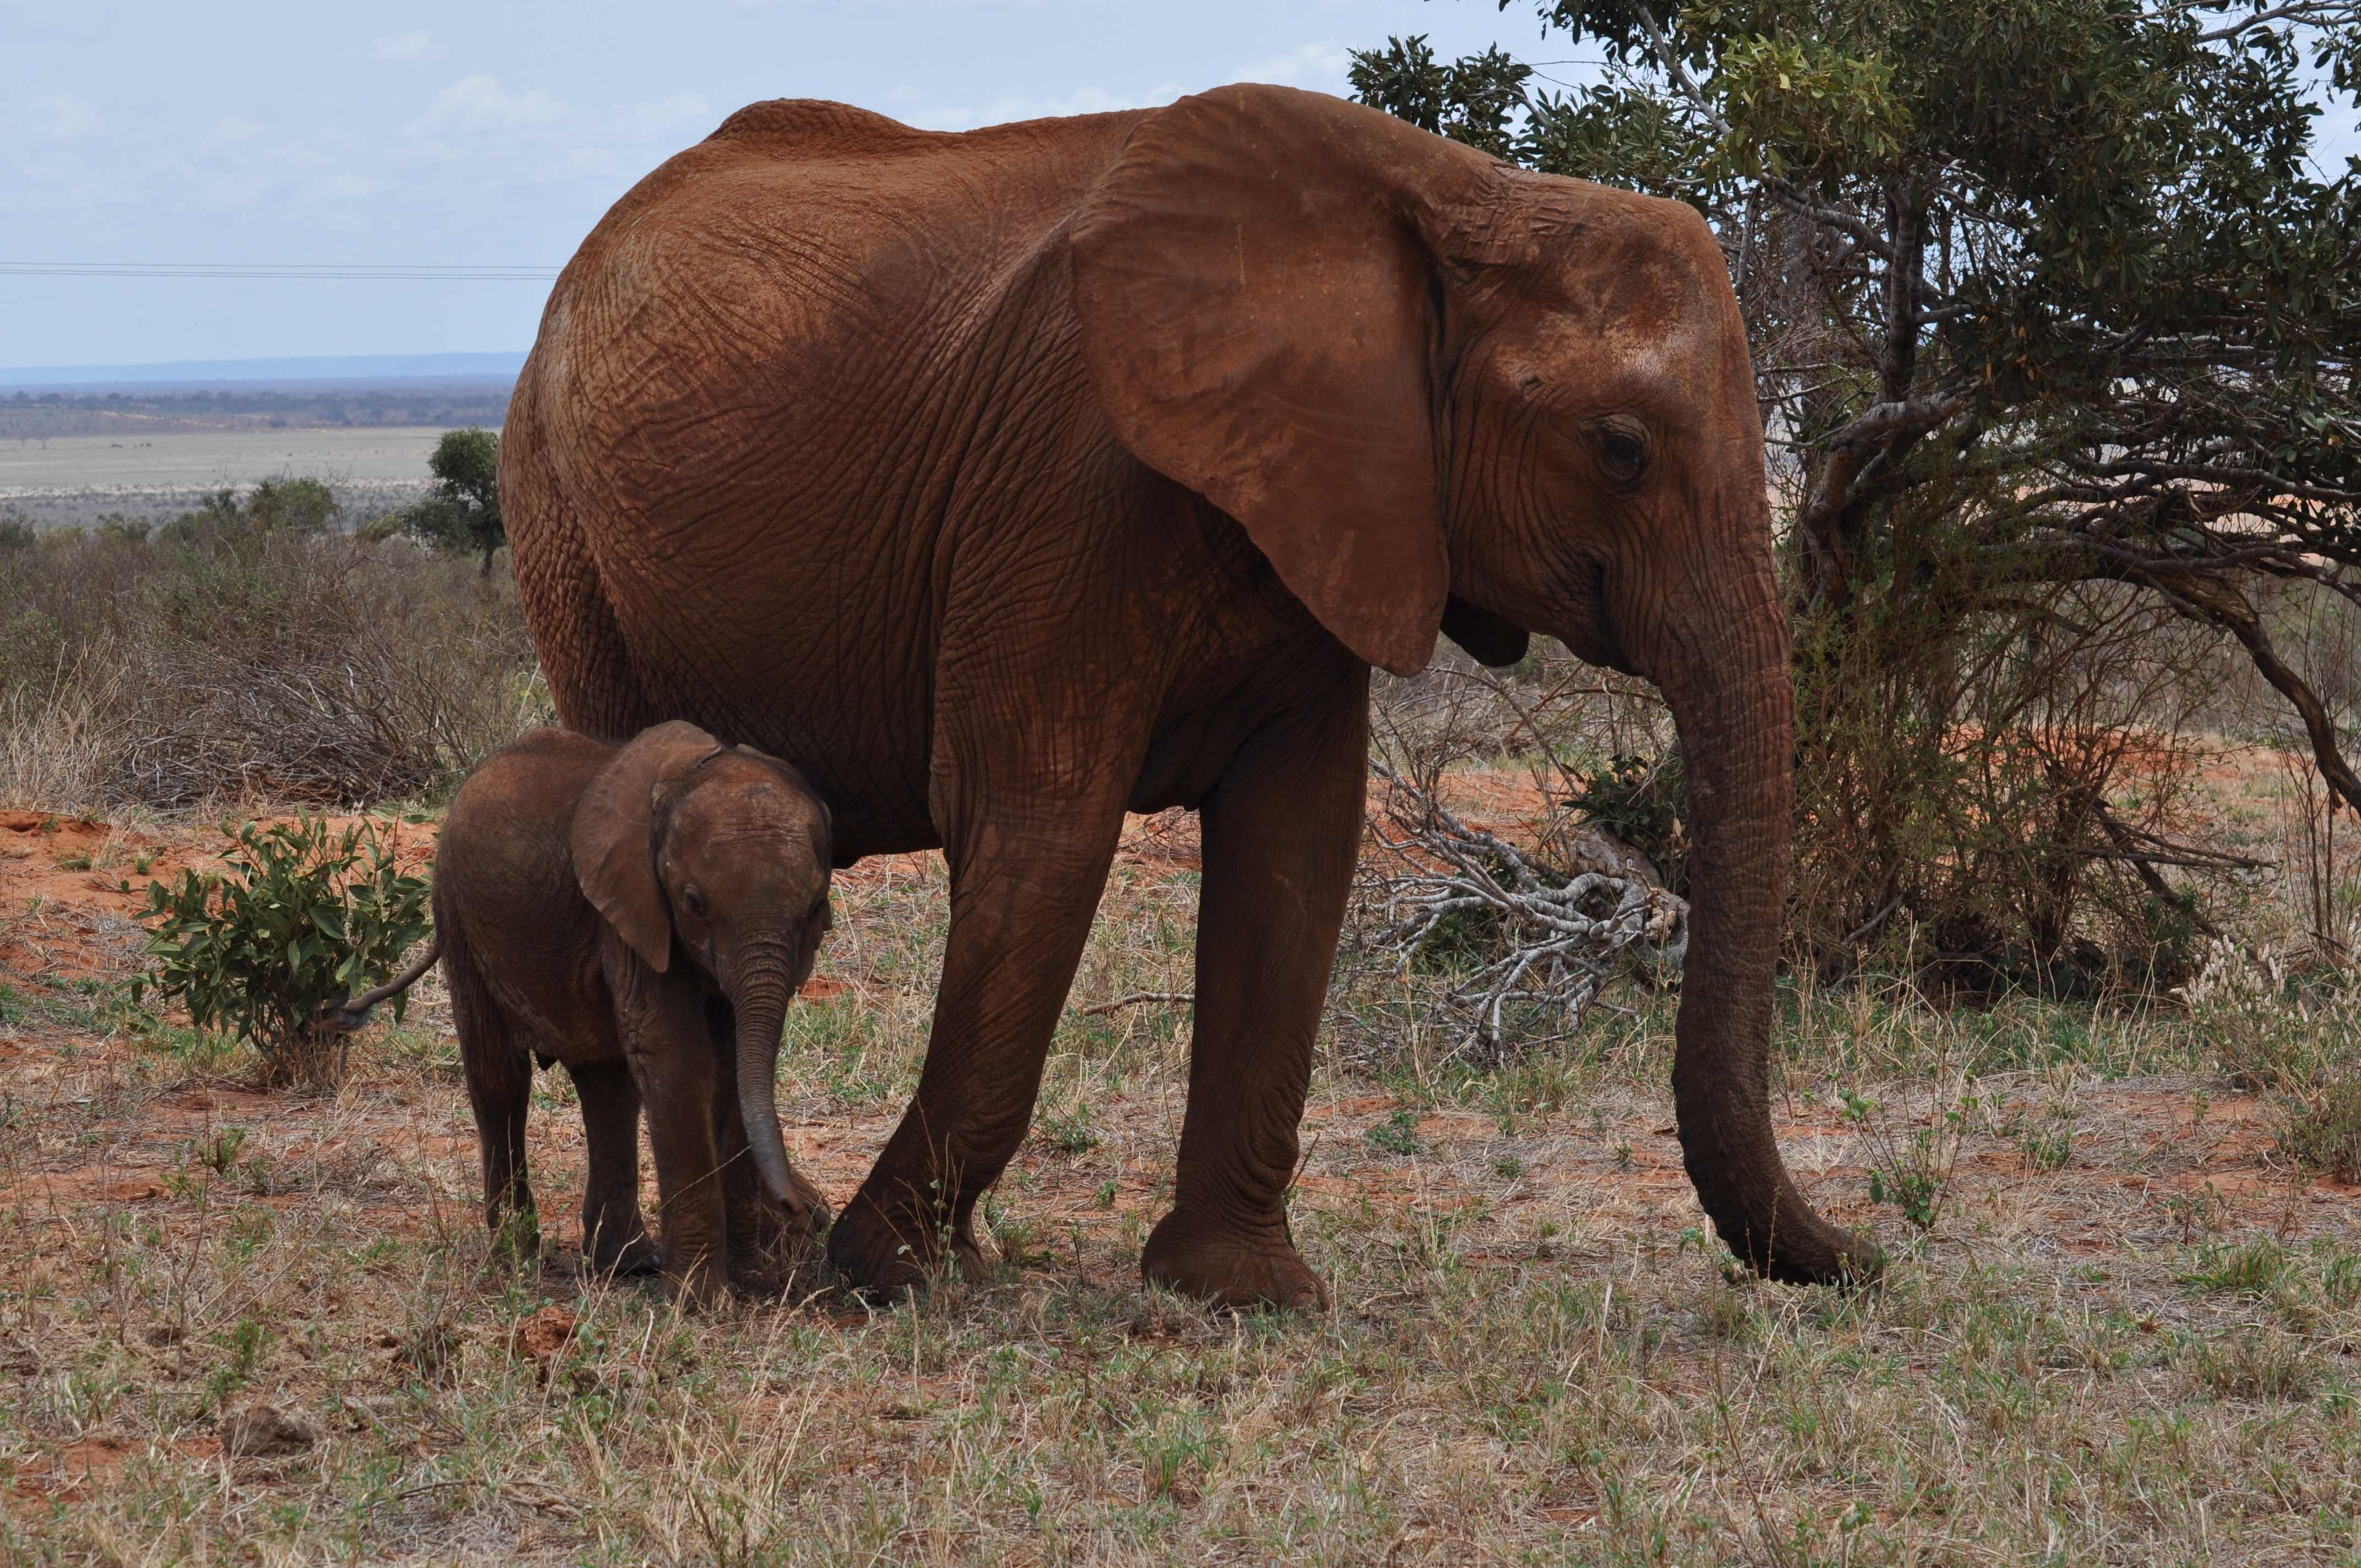elephant: (497, 94, 1902, 1318), (436, 719, 844, 1272)
